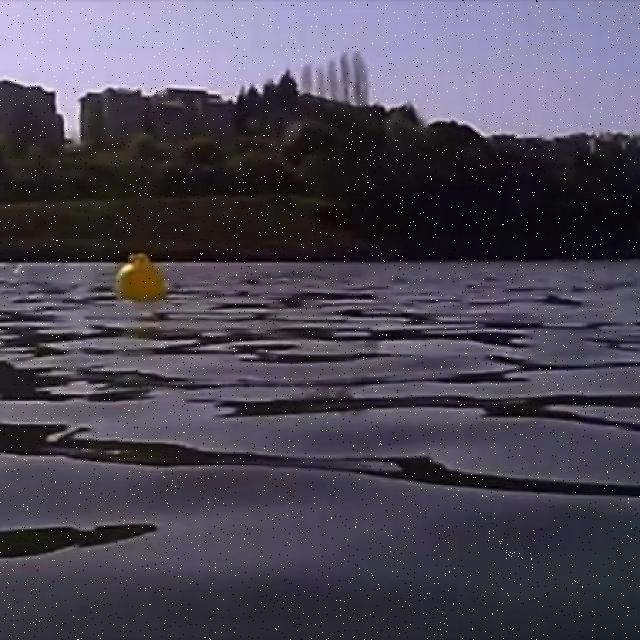buoy: (118, 251, 165, 302)
